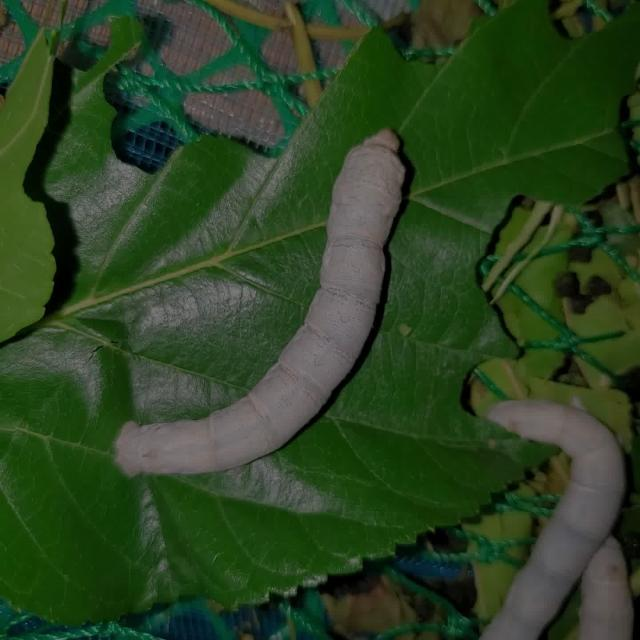Healthy: (109, 133, 409, 484)
